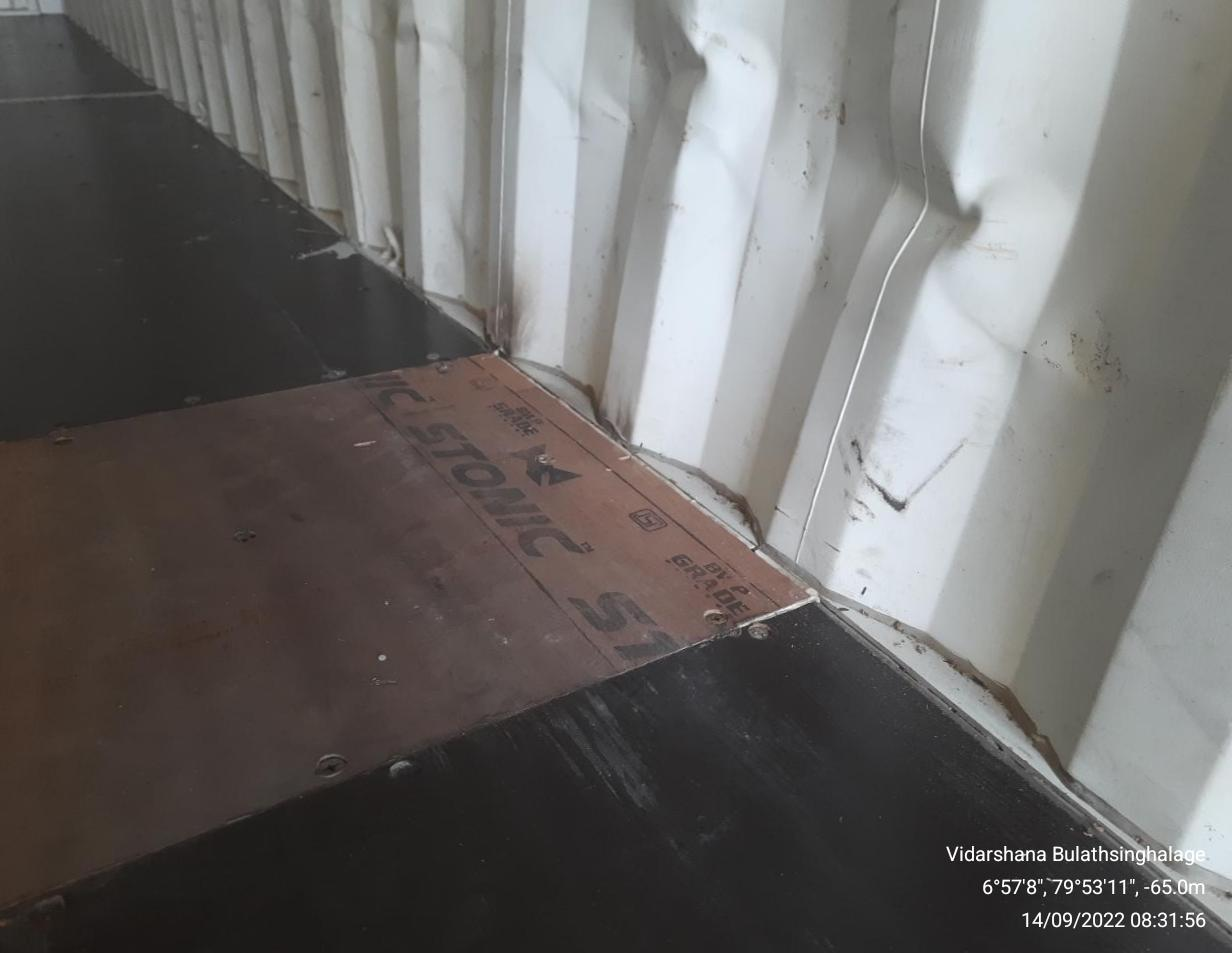moderate: (493, 7, 1113, 362)
